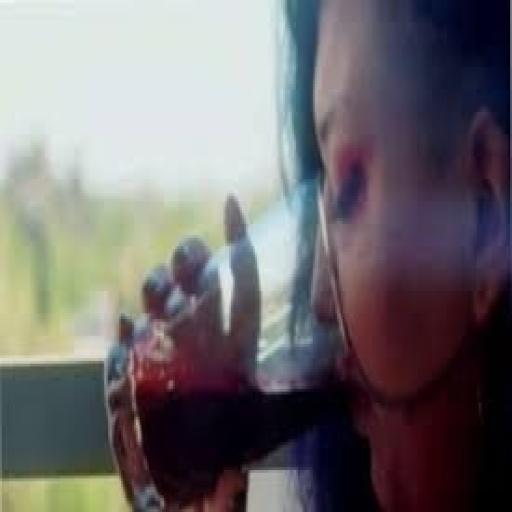drinking: (103, 0, 510, 509)
